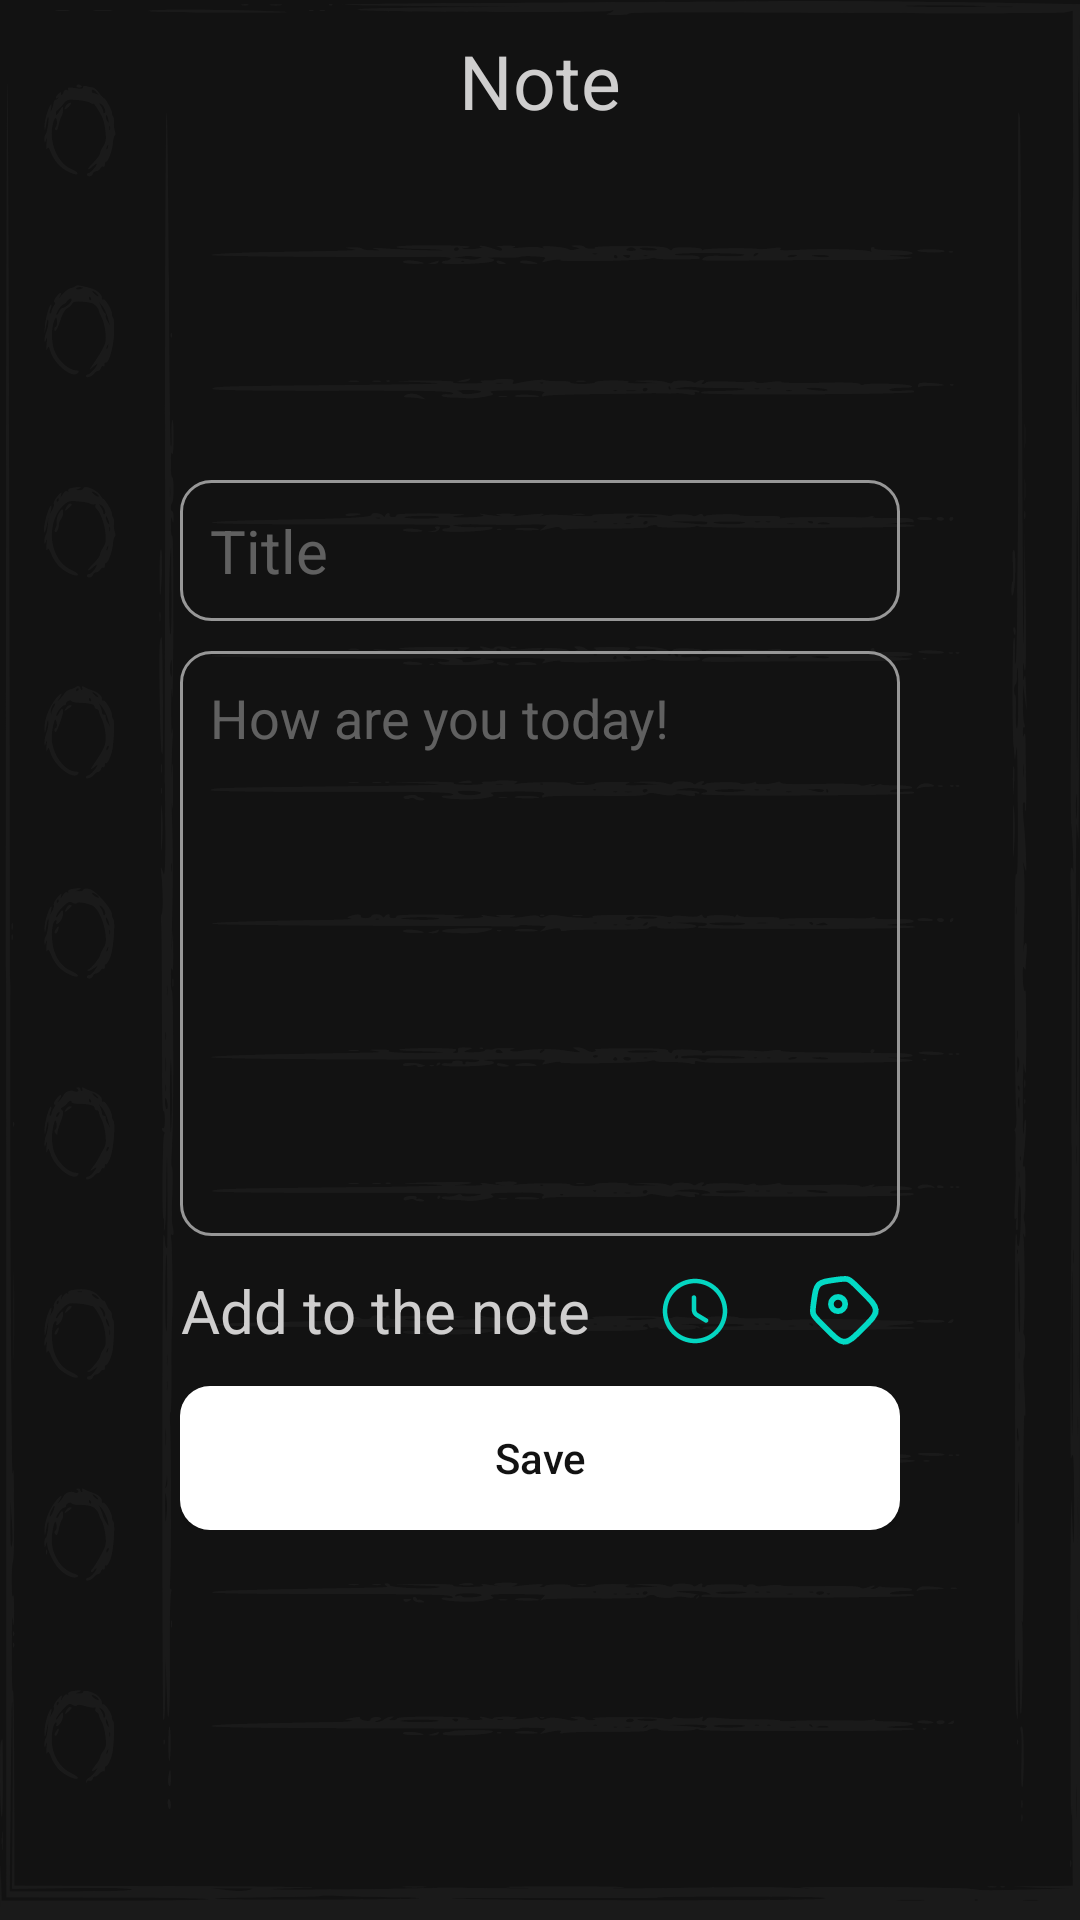

Named icons in this screenshot (1080px x 1920px) and their centers, point (x, y):
clock: point (695, 1311)
